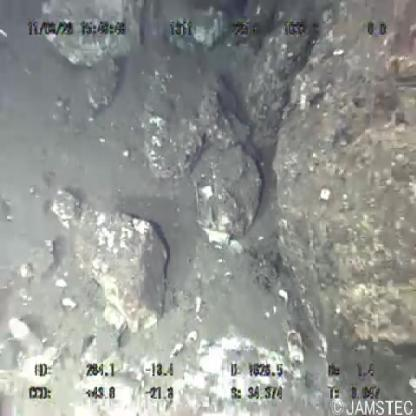Rác: (191, 177, 234, 248)
